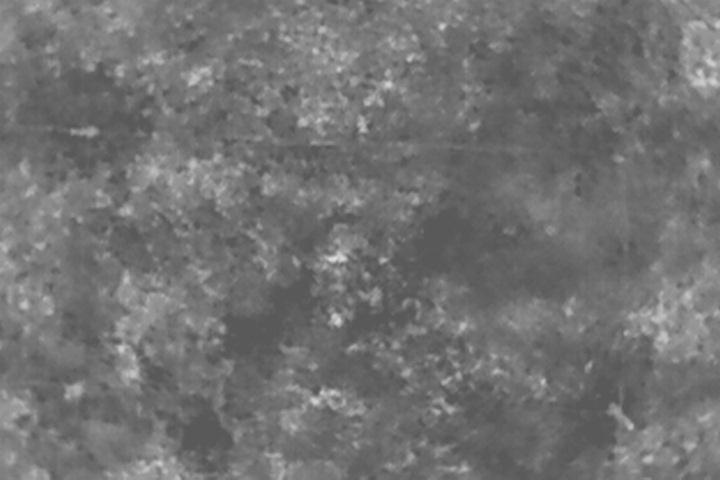landmine: (318, 243, 354, 273)
